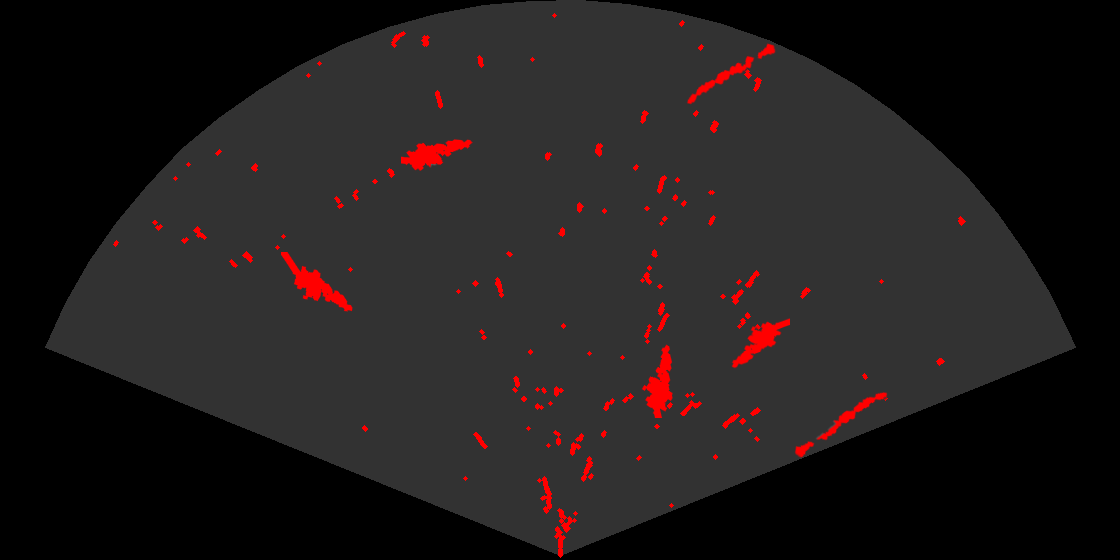chain: (793, 390, 889, 459), (685, 42, 777, 106)
frogman: (281, 252, 354, 313), (730, 316, 790, 370), (640, 343, 674, 418), (401, 138, 473, 172)
